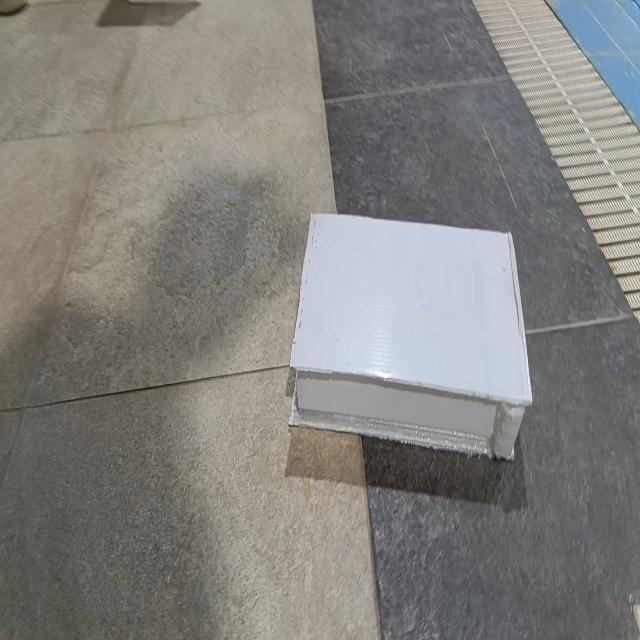Cuboid: (287, 209, 534, 462)
